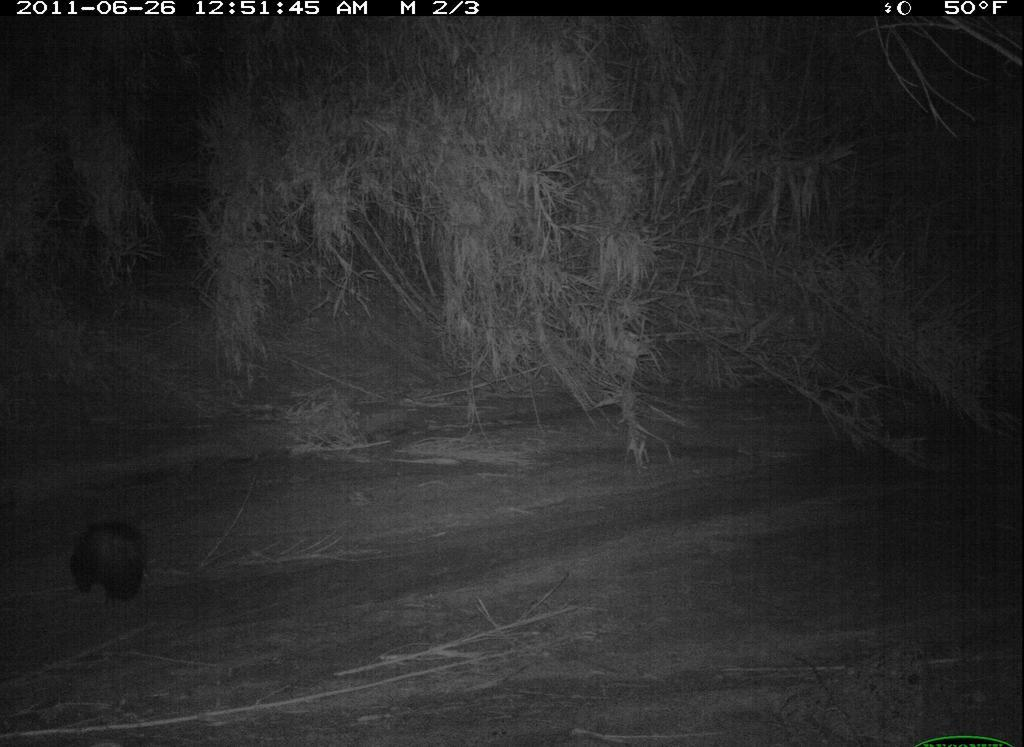skunk: (67, 514, 161, 610)
